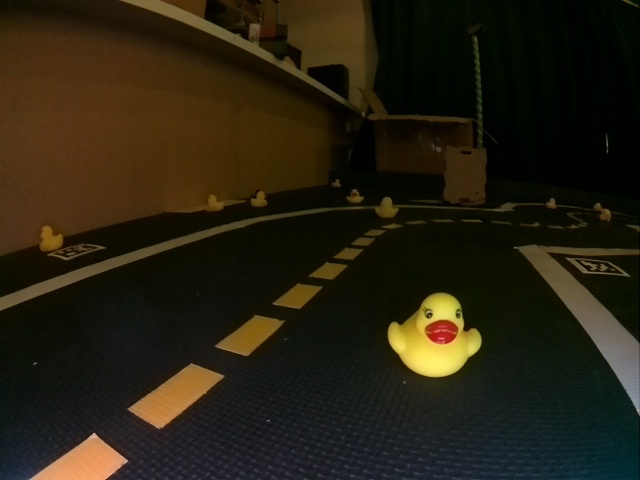Duckie: (388, 292, 481, 378), (39, 226, 63, 251), (375, 197, 399, 217), (205, 195, 223, 211), (253, 190, 268, 206), (347, 189, 364, 203), (601, 209, 611, 219), (546, 198, 555, 207), (332, 179, 341, 187)
QR code: (568, 258, 626, 277), (51, 243, 104, 260)
